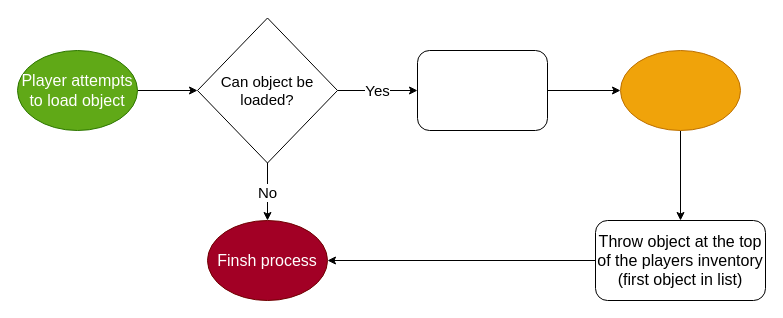
This 783x318 diagram has some shape labels left out. Here are the shapes that lost their labels. From the top down, the centre of each, then its label:
At (482,90): "Load object into players inventory".
At (680,90): "Player throws object from their Inventory".
